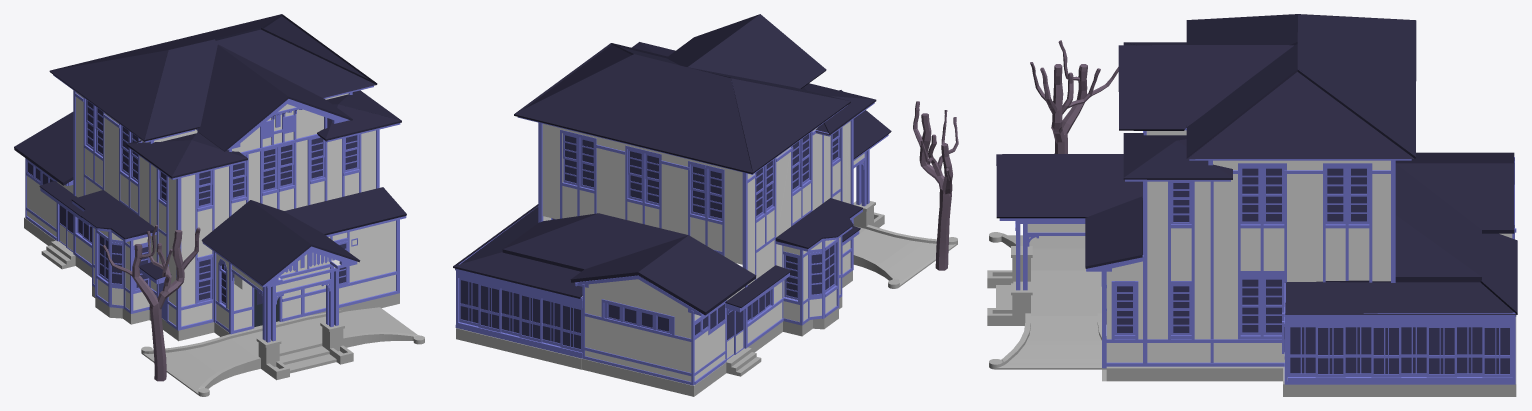
The model's file is Building_2.fbx.
3 views of the same model, side by side, from view 1: azimuth 30°, elevation 25°; view 2: azimuth 150°, elevation 25°; view 3: azimuth 270°, elevation 25° (orthographic). The views are drawn at different scales.
Visible parts, largest first — view 1: Building_2; view 2: Building_2; view 3: Building_2.
Part boxes in pixels (<box>): Building_2: <box>14,14,424,396</box>; Building_2: <box>453,14,958,396</box>; Building_2: <box>987,14,1517,396</box>.
Bounding box in the file's own units: 13.21 × 9.17 × 15.79.
